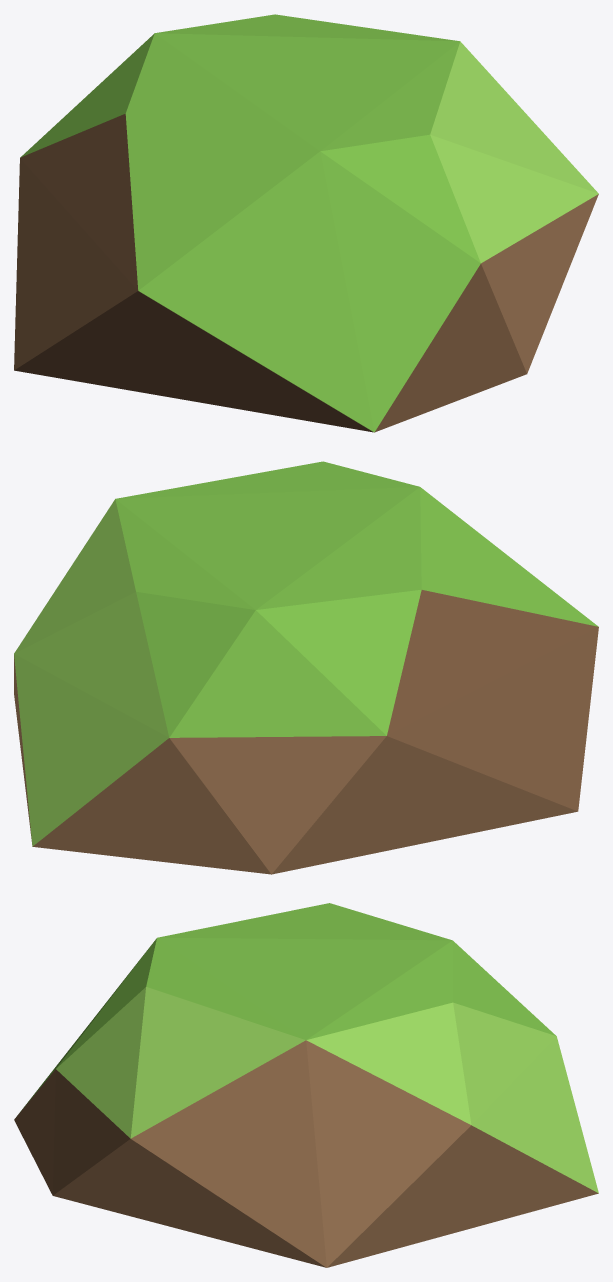
Rendered from rock_smallC.glb.
3 renders of one model, top to bottom at view 1: azimuth 30°, elevation 25°; view 2: azimuth 150°, elevation 25°; view 3: azimuth 270°, elevation 25°, orthographic. The views are drawn at different scales.
Visible parts, largest first — view 1: rock_smallC; view 2: rock_smallC; view 3: rock_smallC.
Part boxes in pixels (bbox=[...]): rock_smallC: bbox=[14, 14, 598, 432]; rock_smallC: bbox=[14, 461, 598, 874]; rock_smallC: bbox=[14, 903, 598, 1267].
Size of the model in its own units: 0.314 by 0.1188 by 0.3257.
Materials: 1 (1 with a texture image).
